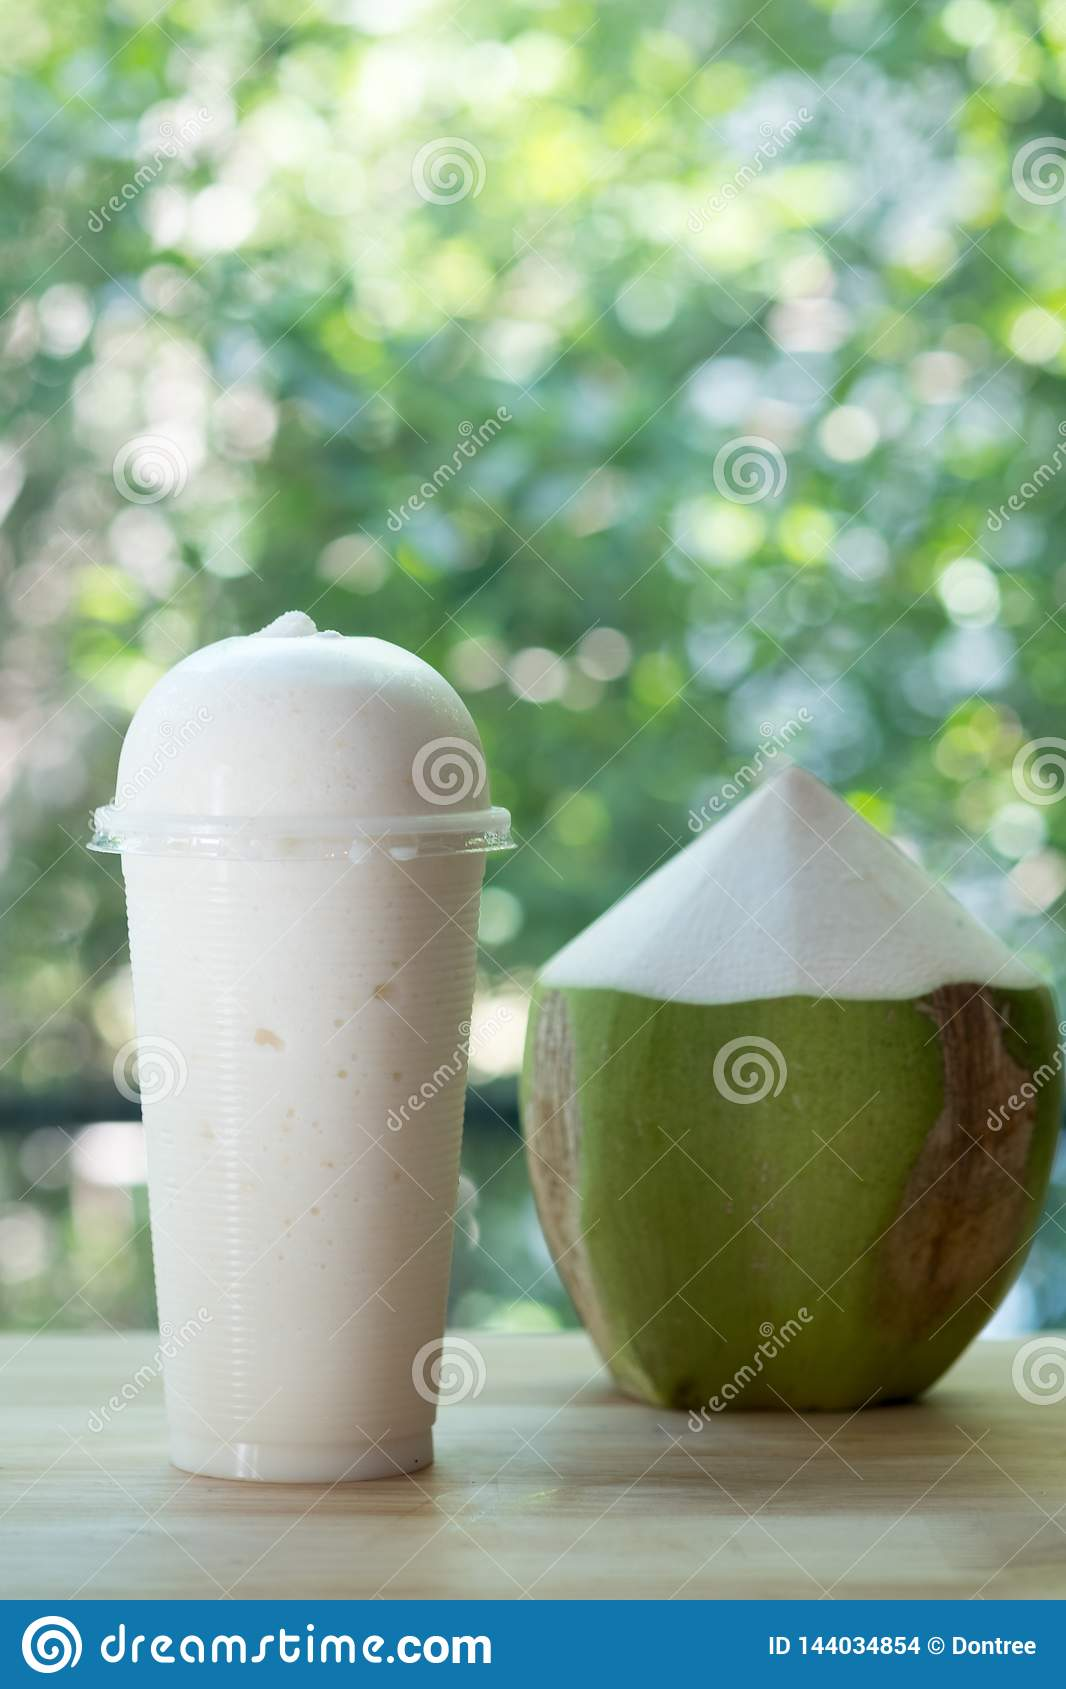plastic_glass: (79, 615, 531, 1513)
